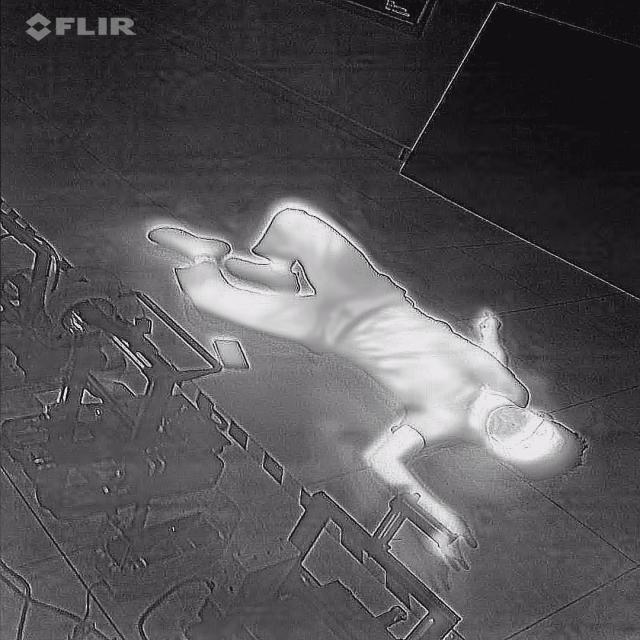Victim: (143, 198, 595, 578)
